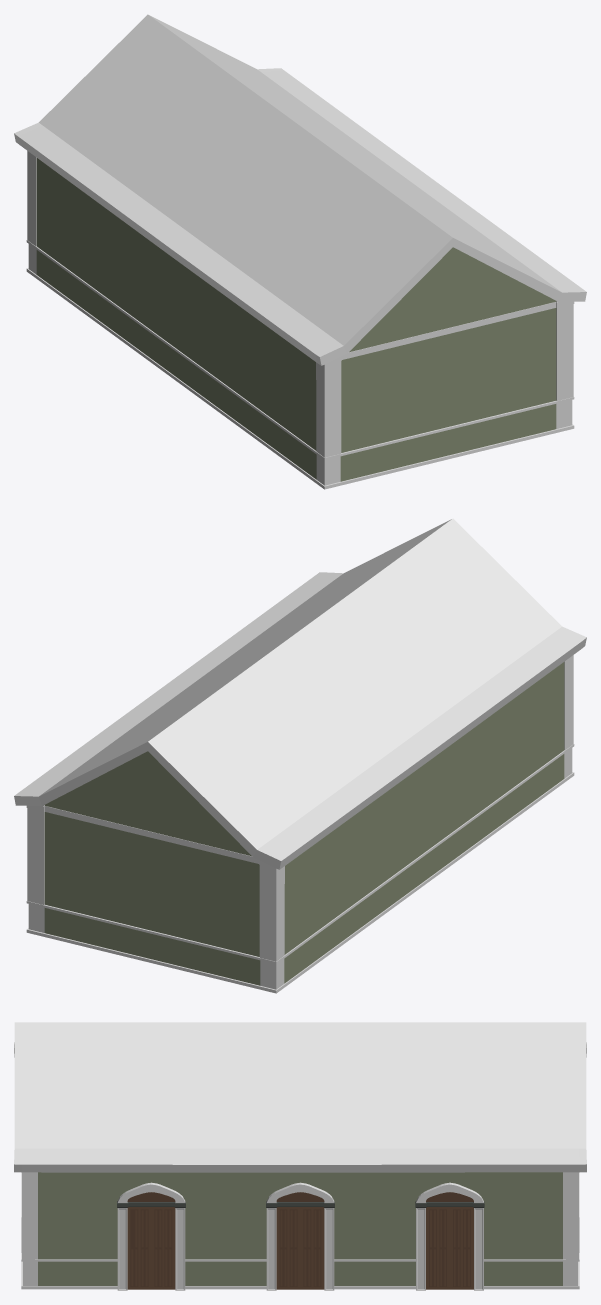
The model's file is Train_station.fbx.
The picture shows the model from 3 angles, top to bottom: view 1: azimuth 30°, elevation 25°; view 2: azimuth 150°, elevation 25°; view 3: azimuth 270°, elevation 25°; orthographic projection. The views are drawn at different scales.
Parts seen in each view (by area): view 1: Train_station; view 2: Train_station; view 3: Train_station.
Boxes of the visible parts, x1,y1,x2,y2 form: Train_station: (14,14,586,489); Train_station: (14,518,586,993); Train_station: (14,1022,586,1290).
Size of the model in its own units: 777 by 622 by 1538.
